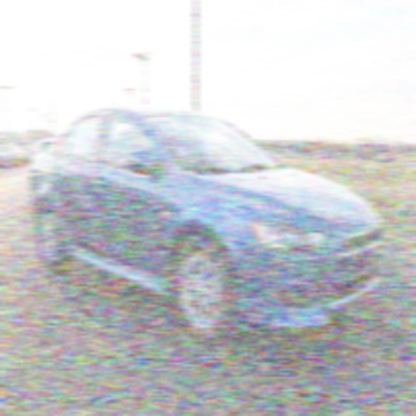Vehicle: (28, 103, 384, 350)
